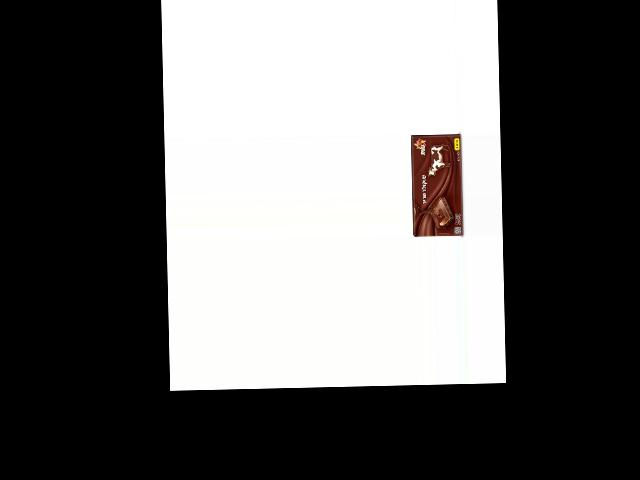chocolate: (410, 131, 463, 235)
